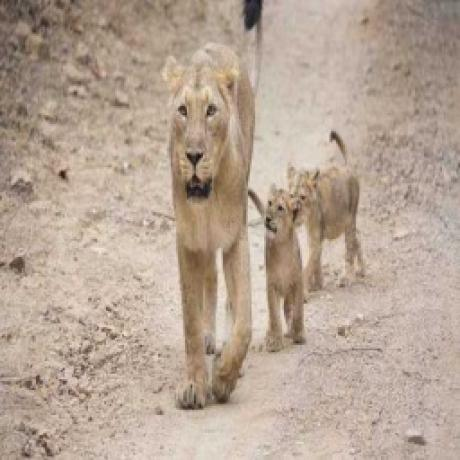Lion: (160, 37, 256, 421), (282, 131, 374, 291), (247, 183, 304, 356)
